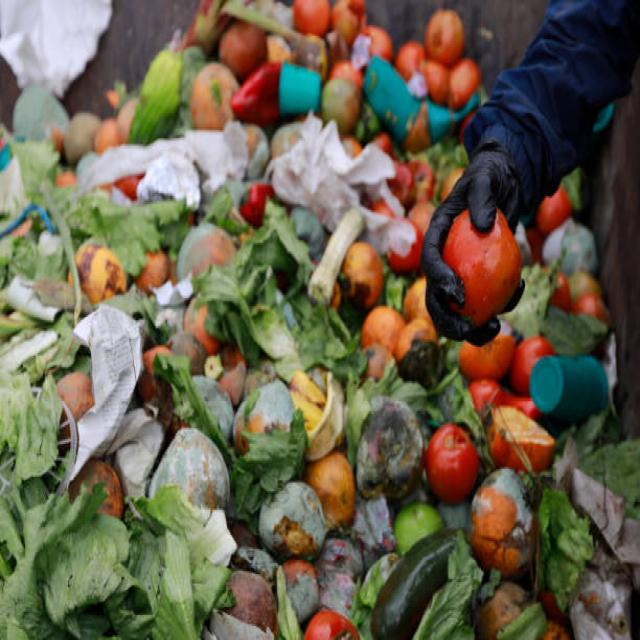trash: (22, 64, 567, 560)
